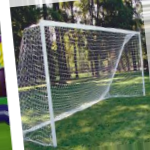goals: (16, 17, 148, 147)
